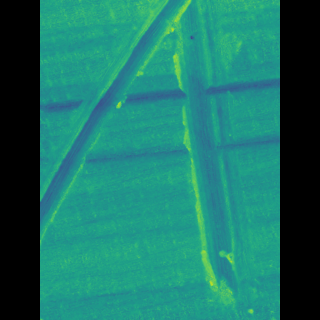Loch: (69, 0, 185, 250), (169, 0, 235, 312)
